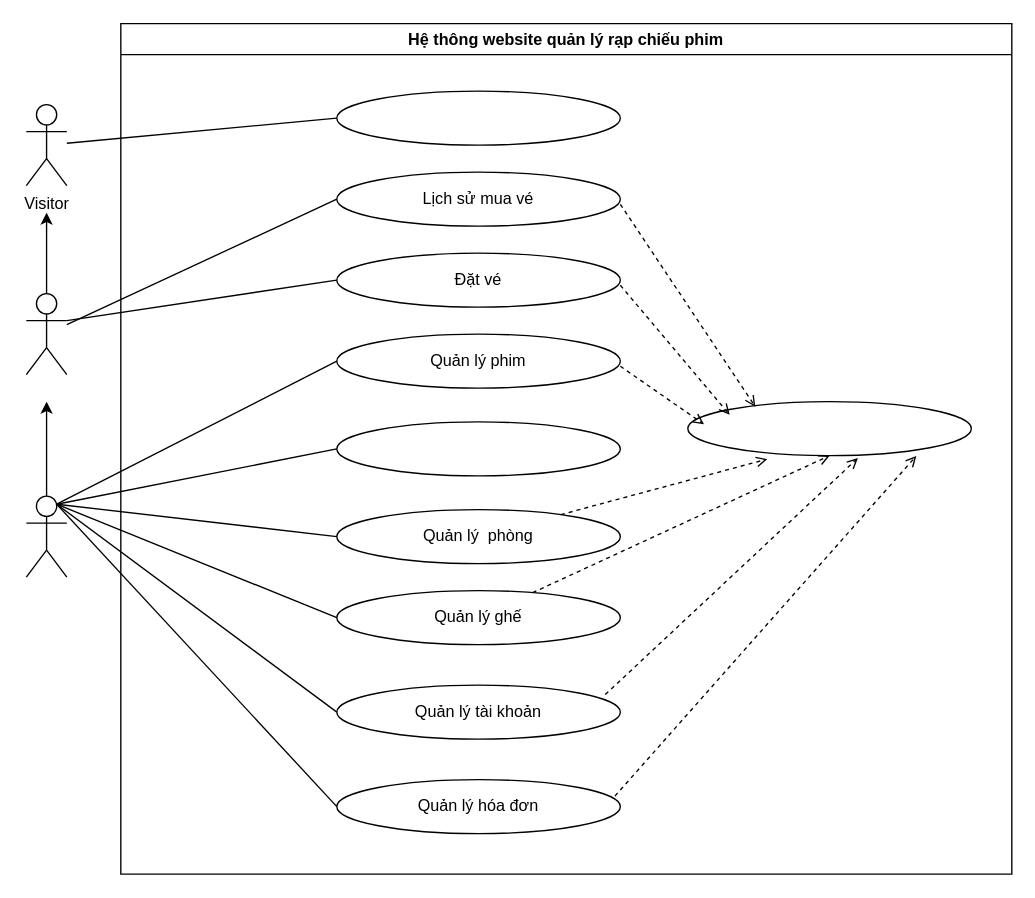
This 1035x898 diagram has some shape labels left out. Here are the shapes that lost their labels. From the top down, the box of each, then its label:
(335, 90, 620, 145): Xem trang chủ
(25, 292, 67, 375): User
(686, 400, 971, 456): Đăng nhập
(335, 421, 620, 476): Quản lý lịch chiếu
(25, 495, 67, 577): Admin
